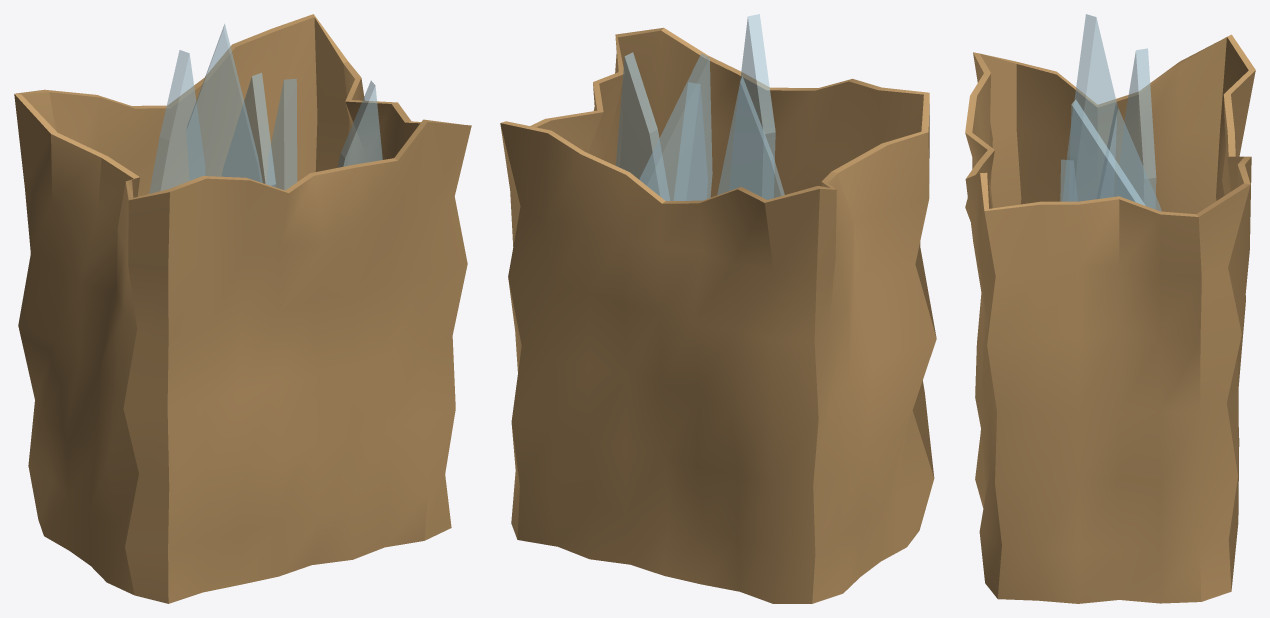
Rendered from glass_bag.glb.
3 renders of one model, left to right at view 1: azimuth 30°, elevation 25°; view 2: azimuth 150°, elevation 25°; view 3: azimuth 270°, elevation 25°, orthographic. The views are drawn at different scales.
Visible parts, largest first — view 1: Bag, Shards; view 2: Bag, Shards; view 3: Bag, Shards.
Boxes of the visible parts, x1,y1,x2,y2 form: Bag: (14, 14, 471, 603); Shards: (149, 24, 382, 193); Bag: (500, 27, 936, 603); Shards: (616, 14, 784, 200); Bag: (965, 34, 1255, 603); Shards: (1060, 14, 1161, 211).
Bounding box in the file's own units: 0.0527 × 0.077 × 0.0407.
